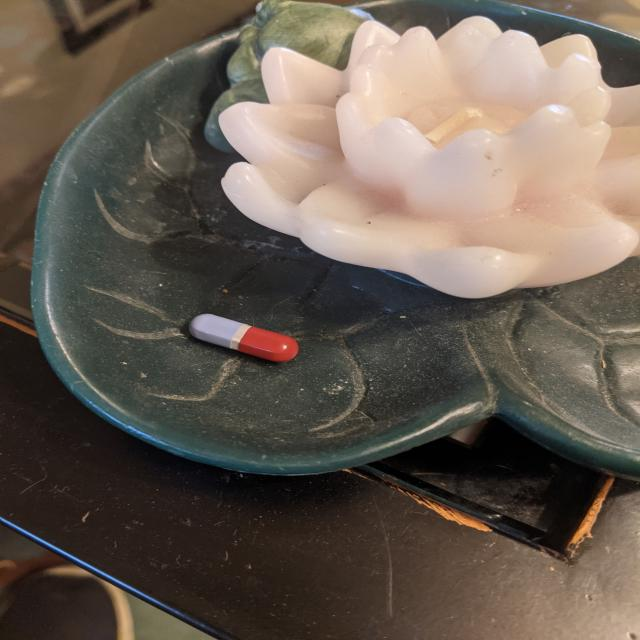non-organic waste: (187, 312, 300, 364)
